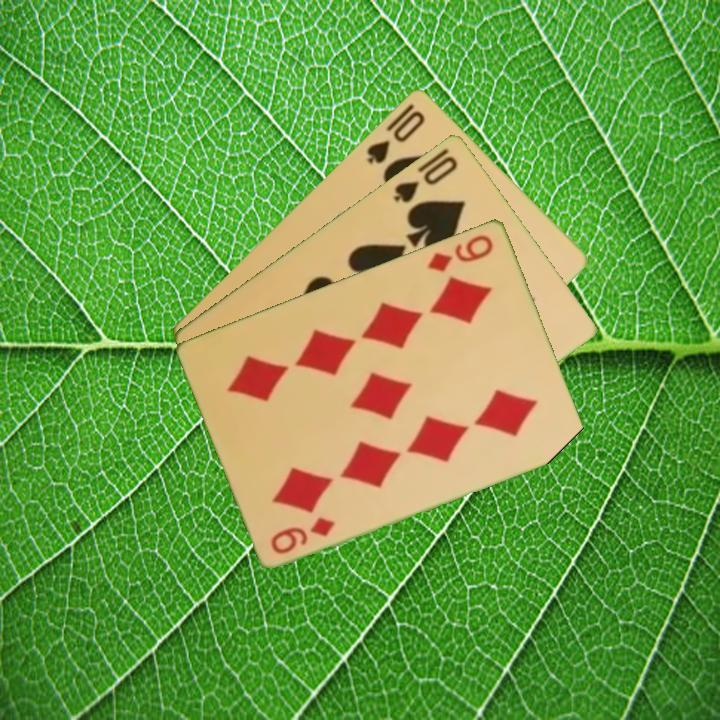10s: (363, 106, 428, 167), (390, 151, 461, 206)
9d: (424, 230, 497, 275), (267, 512, 339, 557)
